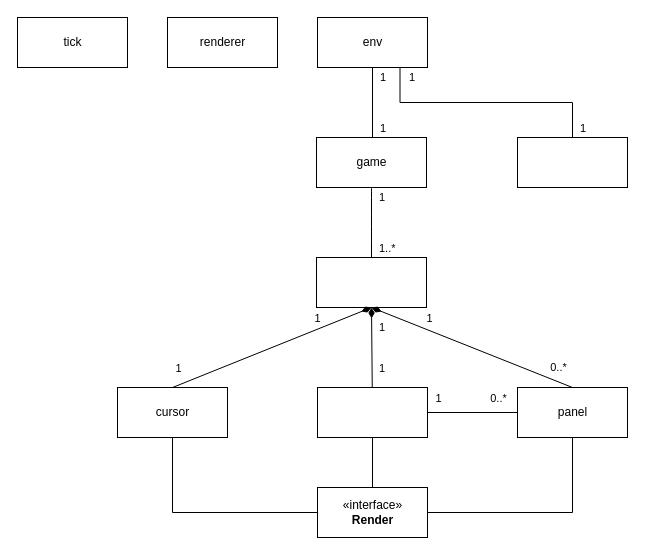
Image size: 645x555. Some labels were removed from this diagram. The shapes that lost their labels are listed below. From the top down, each one's centre as x and y in pixels, then its label:
At point 572,162: "menu".
At point 371,282: "board".
At point 372,412: "grid".
